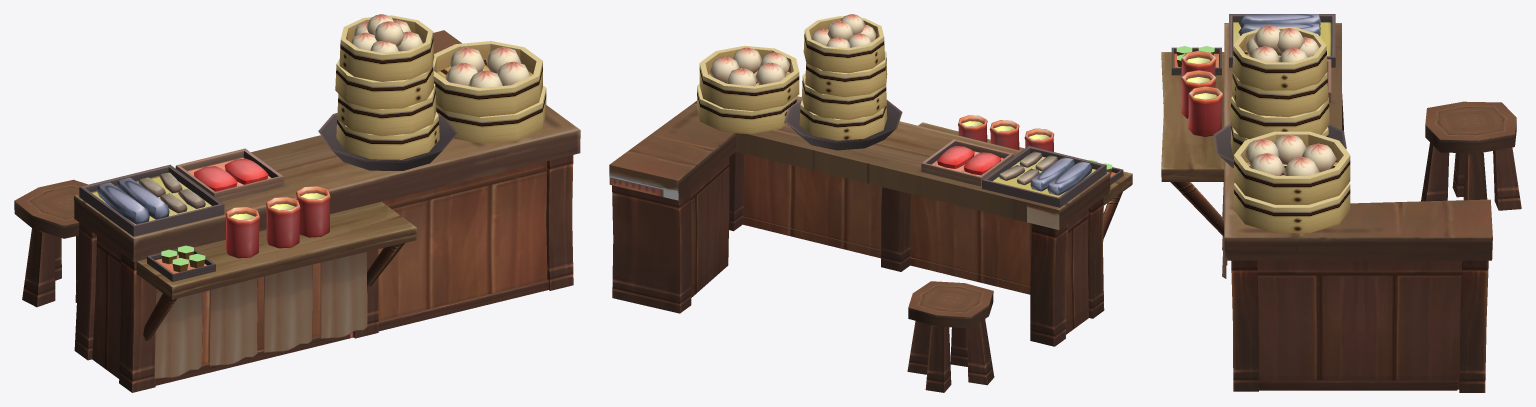
3 renders of one model, left to right at view 1: azimuth 30°, elevation 25°; view 2: azimuth 150°, elevation 25°; view 3: azimuth 270°, elevation 25°, orthographic. The views are drawn at different scales.
Parts seen in each view (by area): view 1: wq_jz002_04; view 2: wq_jz002_04; view 3: wq_jz002_04.
Part boxes in pixels (left/top/right/bottom): wq_jz002_04: left=14, top=14, right=580, bottom=392; wq_jz002_04: left=609, top=14, right=1132, bottom=392; wq_jz002_04: left=1161, top=14, right=1521, bottom=392.
Bounding box in the file's own units: 205 × 128 × 146.
2 materials, 2 textured.
